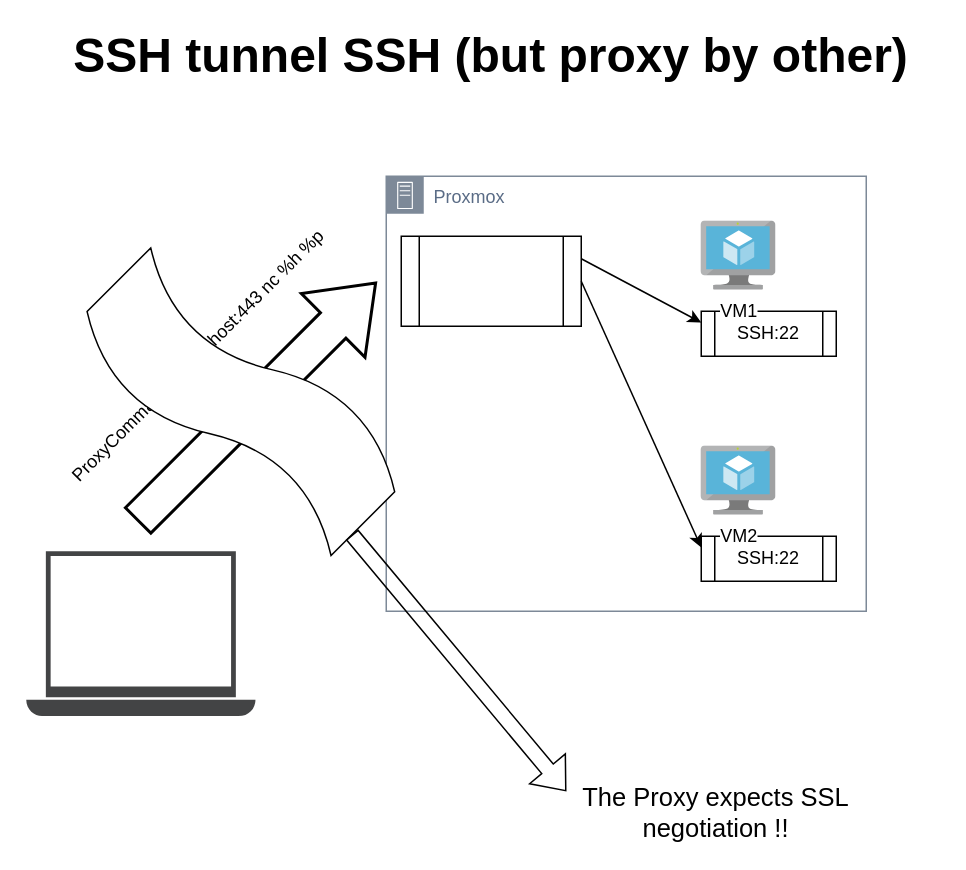
Some shapes in this 966 by 870 pixel diagram are drawn without their labels. Each missing label, with the centre of its shape:
HTTPS proxy By ISP: [240,401]
SSH: [140,633]
SSH:443: [490,280]
